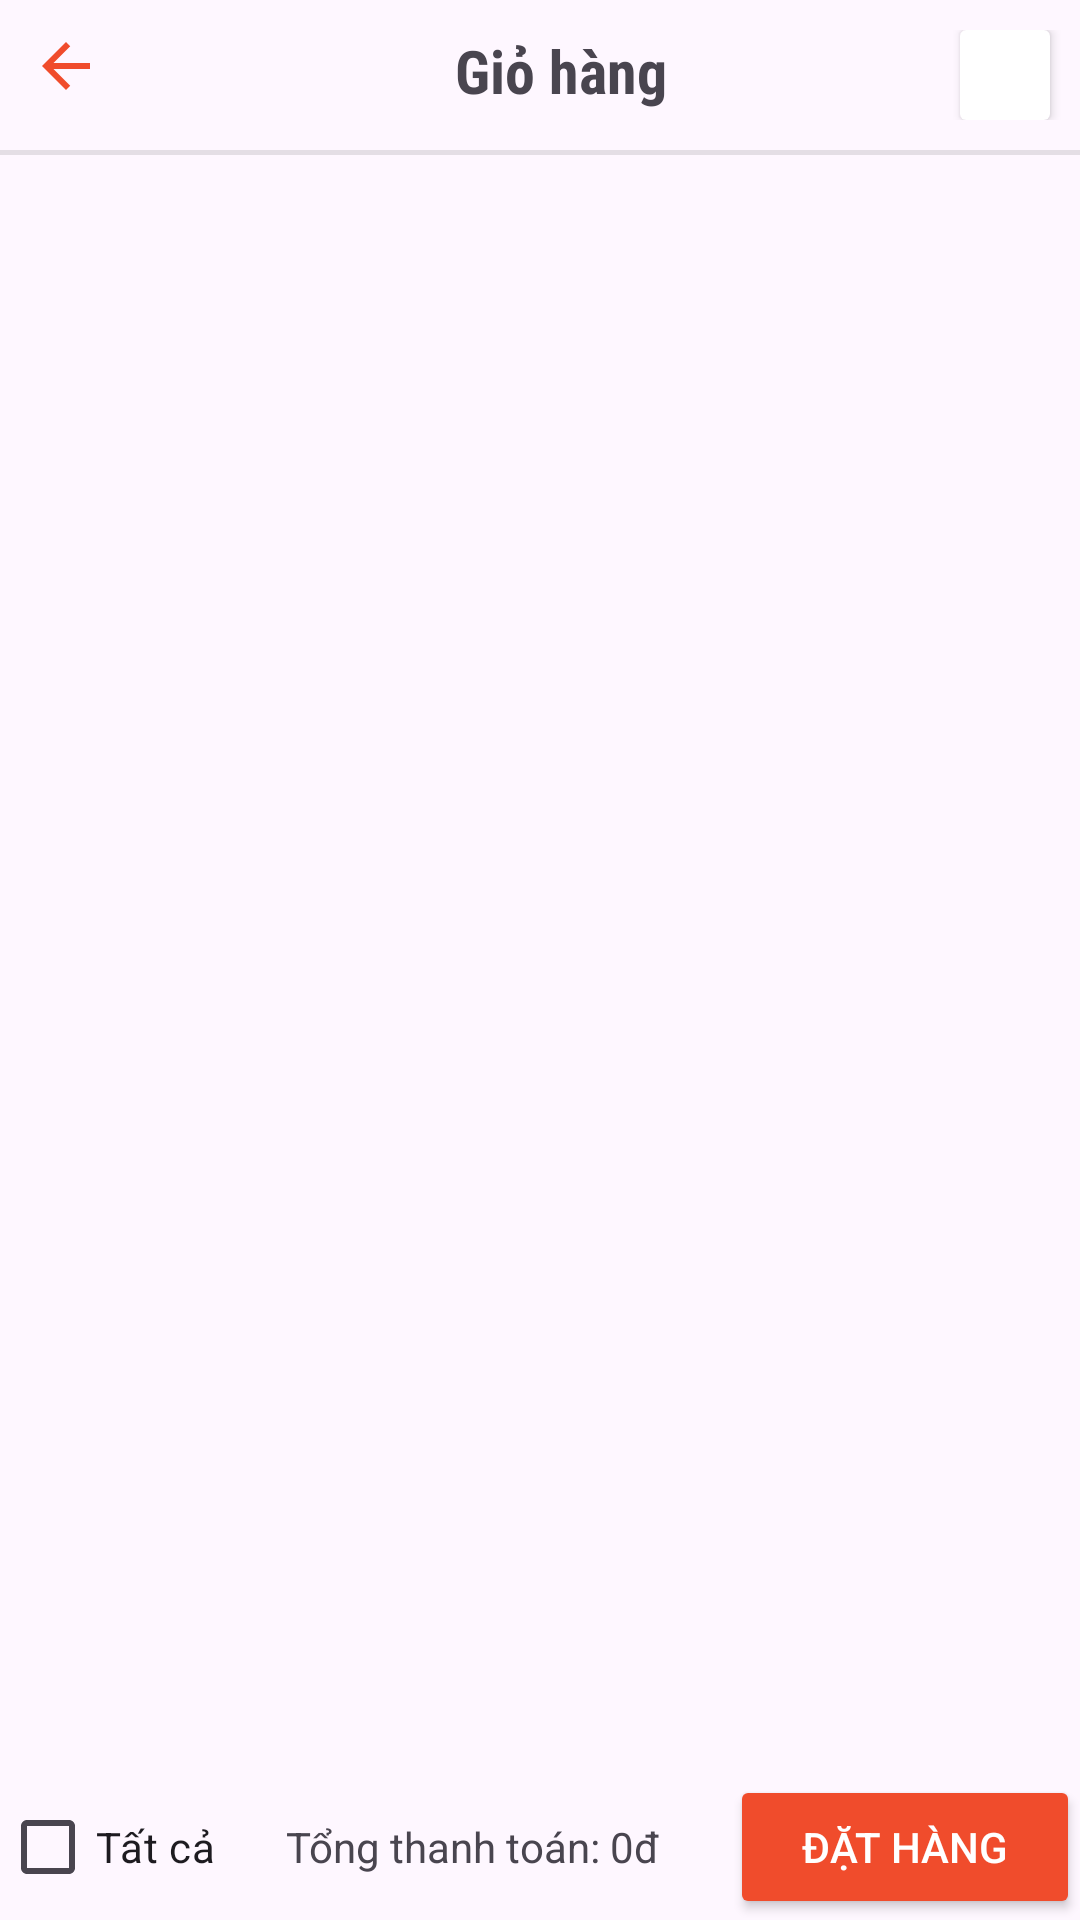

Where to tap for icons on this 1080×1920 app screen, as point (x, y):
back: point (66, 66)
